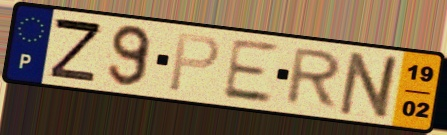9: (106, 23, 154, 90)
E: (219, 36, 281, 106)
N: (335, 49, 406, 122)
P: (165, 31, 223, 94)
R: (281, 46, 346, 111)
Z: (47, 15, 105, 85)
